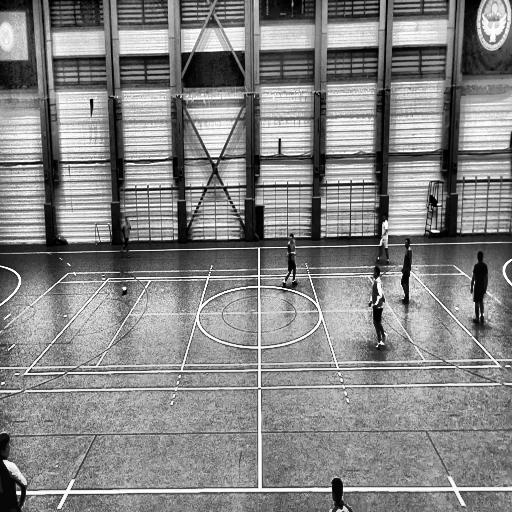ball: (122, 286, 127, 294)
player: (369, 266, 387, 350), (471, 250, 488, 324), (282, 231, 298, 287), (401, 238, 412, 304), (376, 213, 389, 264), (121, 217, 132, 258)
